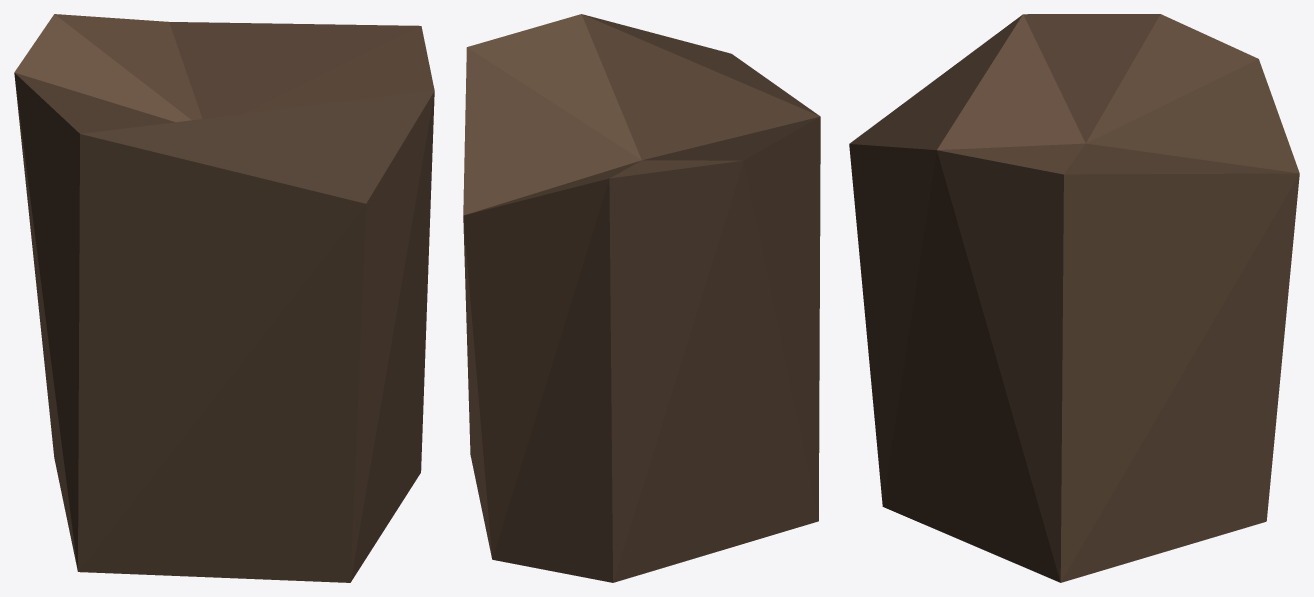
The model's file is Prop_GrainBagALOD2.fbx.
The picture shows the model from 3 angles, left to right: view 1: azimuth 30°, elevation 25°; view 2: azimuth 150°, elevation 25°; view 3: azimuth 270°, elevation 25°; orthographic projection. The views are drawn at different scales.
Parts seen in each view (by area): view 1: Prop_GrainBagALOD2; view 2: Prop_GrainBagALOD2; view 3: Prop_GrainBagALOD2.
Part boxes in pixels (x1,y1,x2,y2): Prop_GrainBagALOD2: [14, 14, 434, 582]; Prop_GrainBagALOD2: [463, 14, 820, 582]; Prop_GrainBagALOD2: [849, 14, 1299, 582].
Size of the model in its own units: 48.26 by 56.6 by 56.28.
